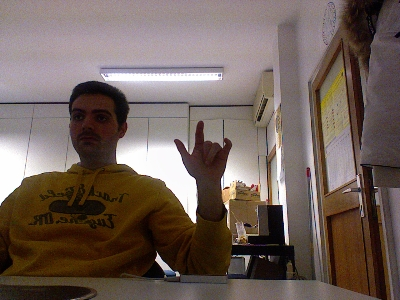我爱你: (171, 118, 233, 183)
